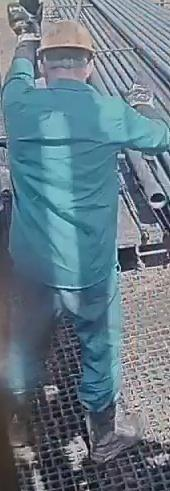gloves: (122, 73, 164, 117), (5, 1, 45, 46)
helmet: (36, 19, 96, 58)
vest: (1, 75, 123, 290)
